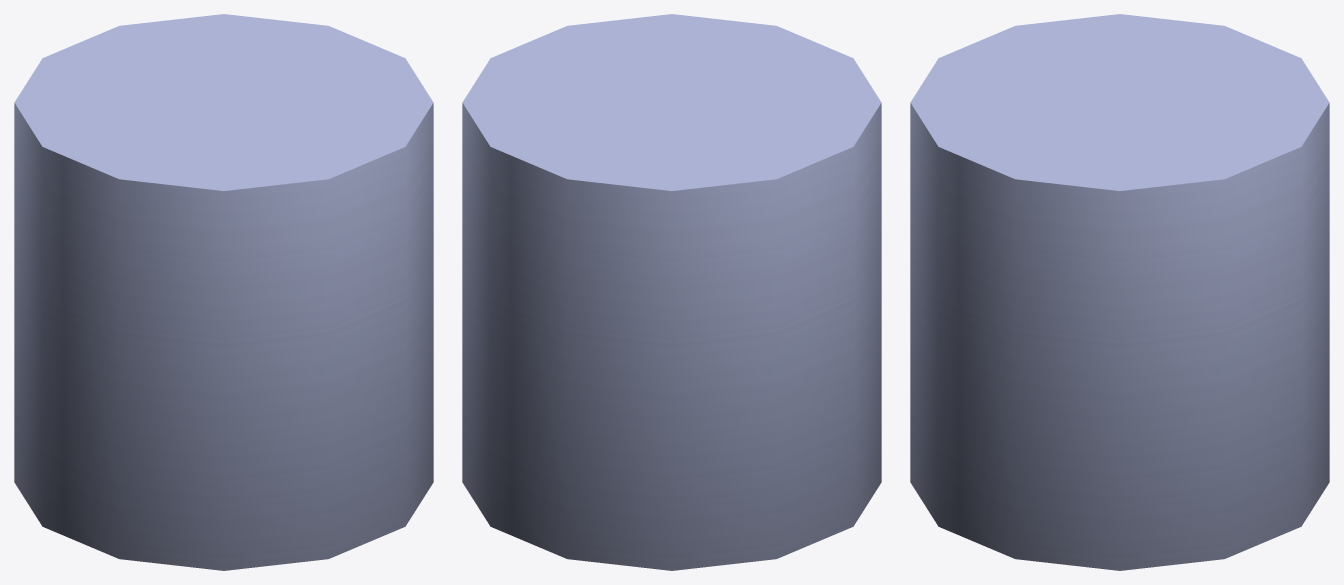
The picture shows the model from 3 angles, left to right: view 1: azimuth 30°, elevation 25°; view 2: azimuth 150°, elevation 25°; view 3: azimuth 270°, elevation 25°; orthographic projection.
Visible parts, largest first — view 1: shape-cylinder; view 2: shape-cylinder; view 3: shape-cylinder.
Part boxes in pixels (x1,y1,x2,y2): shape-cylinder: (14, 14, 433, 570); shape-cylinder: (462, 14, 881, 570); shape-cylinder: (910, 14, 1329, 570).
Size of the model in its own units: 100 by 100 by 100.
